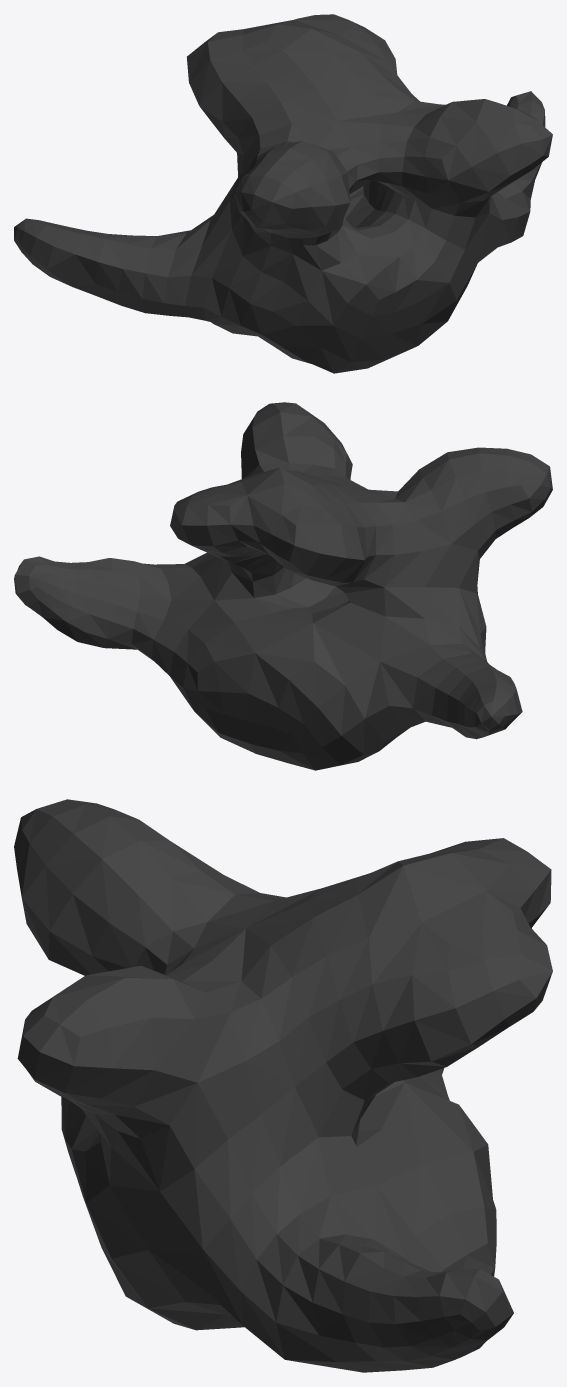
The picture shows the model from 3 angles, top to bottom: view 1: azimuth 30°, elevation 25°; view 2: azimuth 150°, elevation 25°; view 3: azimuth 270°, elevation 25°; orthographic projection. The views are drawn at different scales.
Visible parts, largest first — view 1: Co1; view 2: Co1; view 3: Co1.
Boxes of the visible parts, <box> form: Co1: <box>14,14,552,373</box>; Co1: <box>14,402,552,770</box>; Co1: <box>14,799,552,1372</box>.
Bounding box in the file's own units: 1.83 × 1.01 × 1.04.
Materials: 1 (1 with a texture image).
